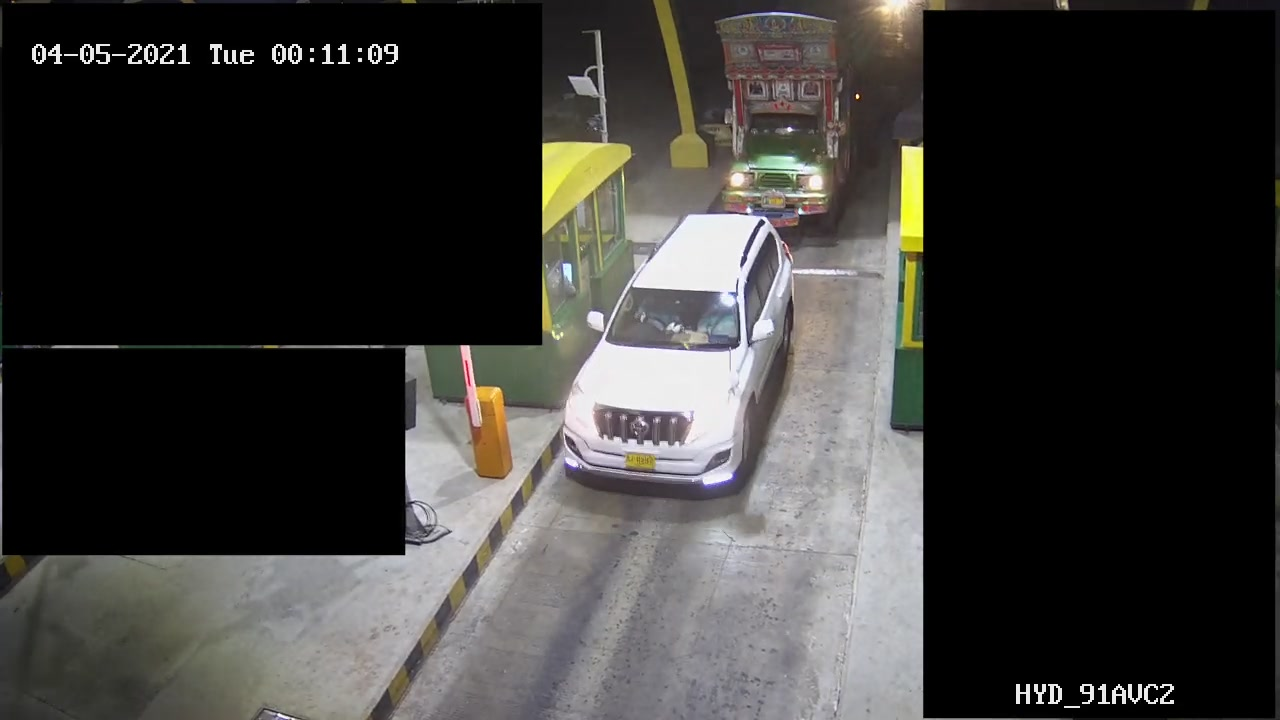F1: (541, 221, 851, 502)
